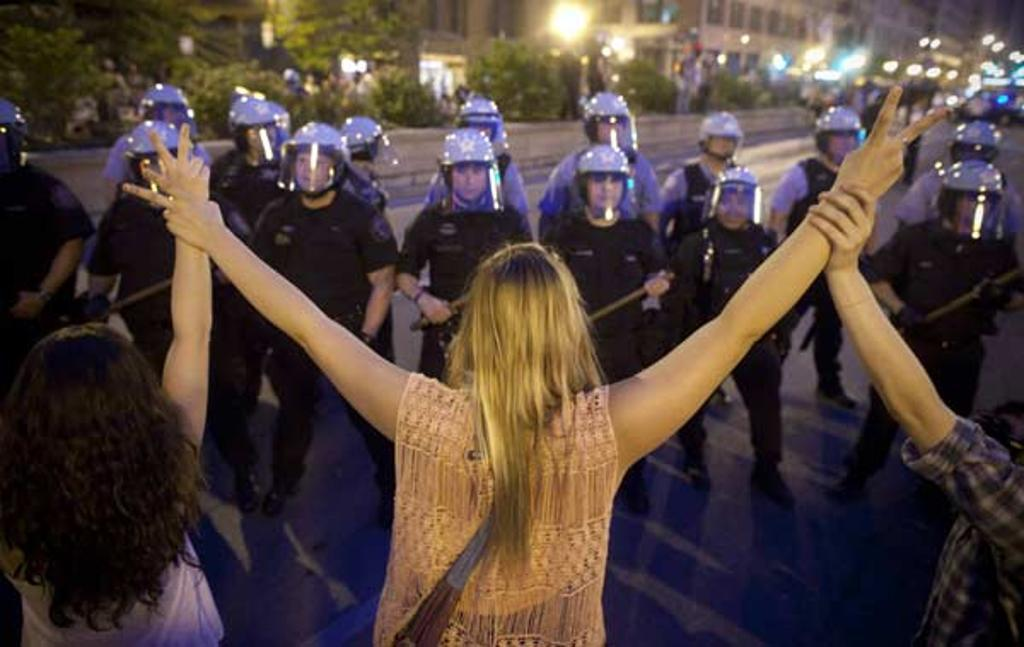face: (297, 150, 338, 195), (153, 152, 188, 202), (589, 172, 625, 213), (954, 192, 993, 228), (154, 107, 187, 149), (451, 165, 489, 200), (958, 145, 990, 183), (244, 128, 277, 164), (718, 192, 748, 230), (597, 120, 626, 154), (827, 132, 857, 159), (466, 120, 492, 150), (711, 132, 734, 157)
